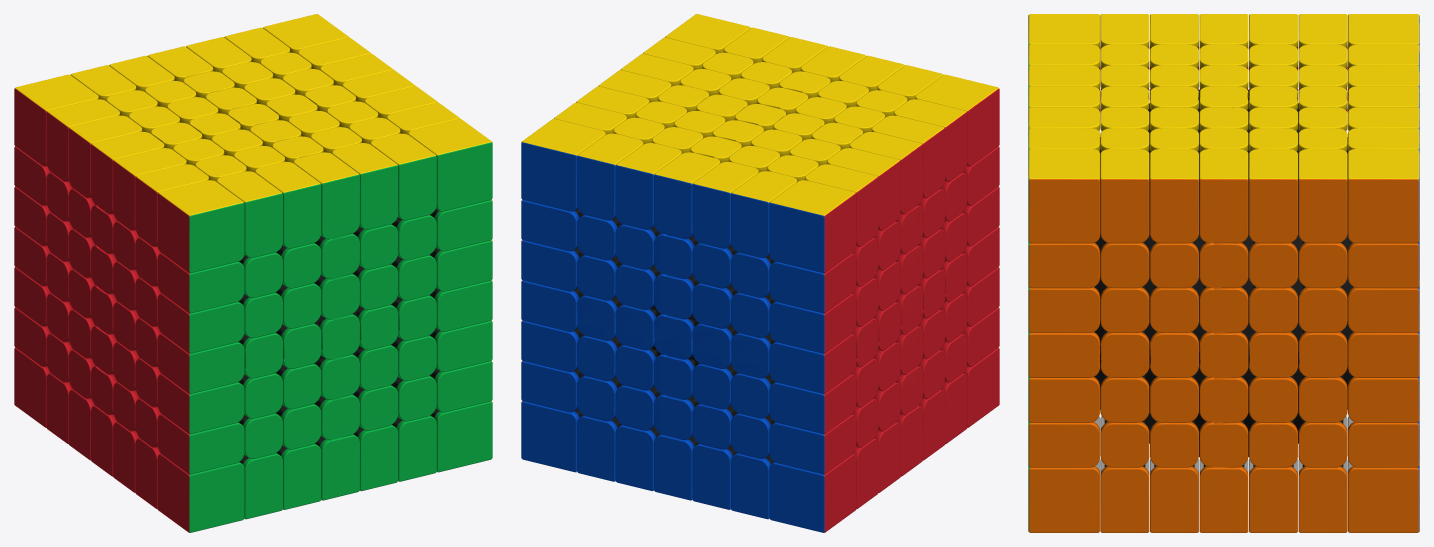
3 views of the same model, side by side, from view 1: azimuth 30°, elevation 25°; view 2: azimuth 150°, elevation 25°; view 3: azimuth 270°, elevation 25° (orthographic). The views are drawn at different scales.
Visible parts, largest first — view 1: piece_-3,3,3, piece_-3,-3,3, piece_3,3,3, piece_-3,3,-3, piece_-3,2,3, piece_-3,1,3, piece_-3,-2,3, piece_-3,0,3, piece_-3,-1,3, piece_2,3,3, piece_-1,3,3, piece_1,3,3 (+115 smaller); view 2: piece_-3,3,-3, piece_-3,-3,-3, piece_3,3,-3, piece_-3,3,3, piece_-3,2,-3, piece_-3,1,-3, piece_-3,-2,-3, piece_-3,0,-3, piece_-3,-1,-3, piece_2,3,-3, piece_-1,3,-3, piece_1,3,-3 (+115 smaller); view 3: piece_3,3,-3, piece_3,3,3, piece_3,-3,3, piece_3,-3,-3, piece_3,3,-2, piece_3,3,2, piece_3,3,0, piece_3,3,-1, piece_3,3,1, interior_occlusion, piece_3,-3,2, piece_3,-3,-2 (+80 smaller).
Boxes of the visible parts, x1,y1,x2,y2 form: piece_-3,3,3: (157, 180, 244, 272); piece_-3,-3,3: (157, 454, 244, 532); piece_3,3,3: (408, 119, 492, 211); piece_-3,3,-3: (14, 74, 98, 166); piece_-3,2,3: (157, 253, 244, 313); piece_-3,1,3: (157, 293, 244, 353); piece_-3,-2,3: (157, 414, 244, 474); piece_-3,0,3: (157, 334, 244, 393); piece_-3,-1,3: (157, 374, 244, 433); piece_2,3,3: (370, 133, 436, 220); piece_-1,3,3: (255, 161, 321, 248); piece_1,3,3: (332, 143, 398, 229); piece_-3,3,-3: (769, 180, 856, 272); piece_-3,-3,-3: (769, 454, 856, 532); piece_3,3,-3: (521, 119, 605, 211); piece_-3,3,3: (915, 74, 999, 166); piece_-3,2,-3: (769, 253, 856, 313); piece_-3,1,-3: (769, 293, 856, 353); piece_-3,-2,-3: (769, 414, 856, 474); piece_-3,0,-3: (769, 334, 856, 393); piece_-3,-1,-3: (769, 374, 856, 433); piece_2,3,-3: (577, 133, 643, 220); piece_-1,3,-3: (692, 161, 758, 248); piece_1,3,-3: (615, 143, 681, 229); piece_3,3,-3: (1348, 149, 1419, 243); piece_3,3,3: (1028, 149, 1099, 243); piece_3,-3,3: (1028, 466, 1099, 532); piece_3,-3,-3: (1348, 466, 1419, 532); piece_3,3,-2: (1298, 149, 1347, 243); piece_3,3,2: (1100, 149, 1149, 243); piece_3,3,0: (1199, 149, 1248, 243); piece_3,3,-1: (1249, 149, 1297, 243); piece_3,3,1: (1150, 149, 1198, 243); interior_occlusion: (1094, 89, 1353, 456); piece_3,-3,2: (1100, 465, 1149, 532); piece_3,-3,-2: (1298, 465, 1347, 532).
Bounding box in the file's own units: 2 × 2 × 2.
